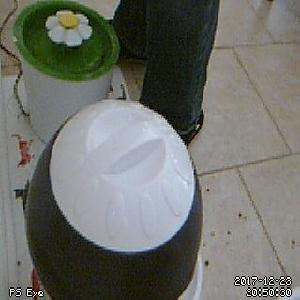fountain: (11, 1, 122, 82)
